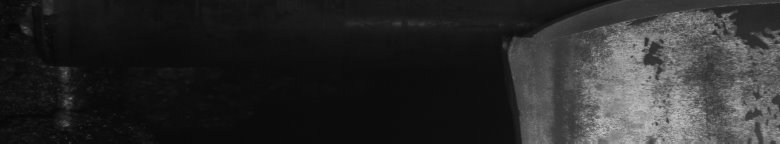kb: (566, 4, 776, 136)
